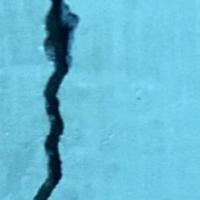crack: (9, 1, 111, 199)
